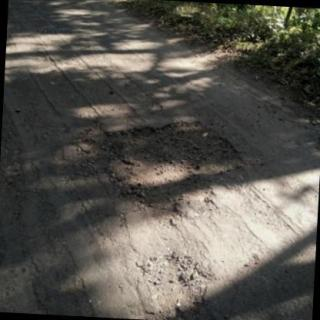pothole: (103, 125, 242, 213), (141, 255, 215, 320)
